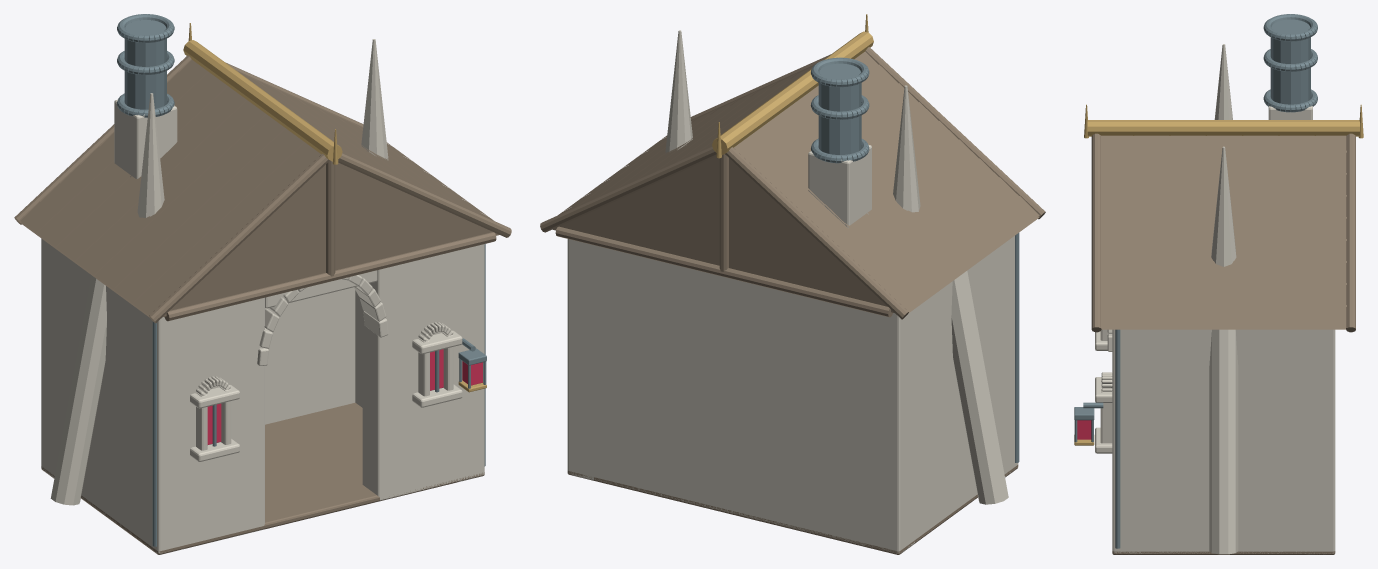
Rendered from a6_service_2.glb.
The picture shows the model from 3 angles, left to right: view 1: azimuth 30°, elevation 25°; view 2: azimuth 150°, elevation 25°; view 3: azimuth 270°, elevation 25°; orthographic projection. The views are drawn at different scales.
Visible parts, largest first — view 1: Roof.026, Front.026, Side.026, Body.062; view 2: Body.062, Roof.026, Side.026, Front.026; view 3: Roof.026, Side.026, Body.062, Front.026.
Part boxes in pixels (box(x1,y1,x2,y2)): Roof.026: box(14, 14, 511, 323); Front.026: box(156, 245, 486, 553); Side.026: box(41, 244, 485, 554); Body.062: box(41, 238, 484, 554); Body.062: box(567, 239, 1018, 554); Roof.026: box(540, 14, 1045, 319); Side.026: box(568, 233, 1019, 554); Front.026: box(1003, 237, 1016, 476); Roof.026: box(1084, 14, 1363, 332); Side.026: box(1112, 329, 1332, 554); Body.062: box(1112, 329, 1335, 554); Front.026: box(1074, 329, 1141, 554).
Size of the model in its own units: 4.11 by 4.13 by 2.59.
